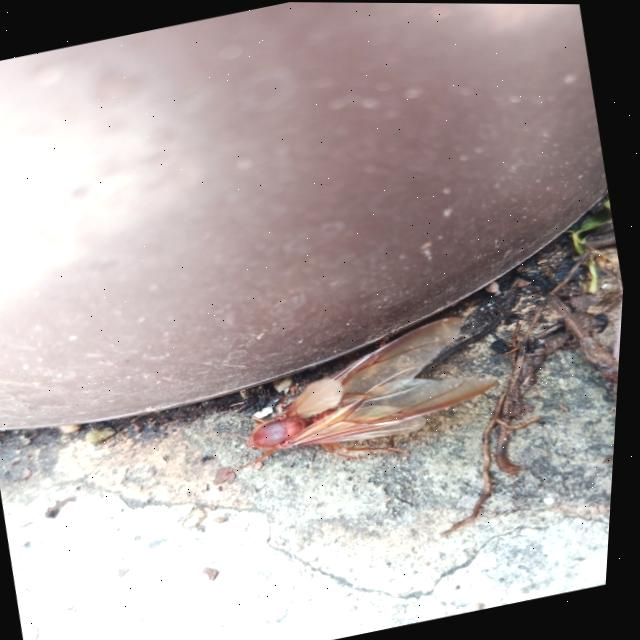Alive-Male-Alate: (206, 302, 516, 492)
